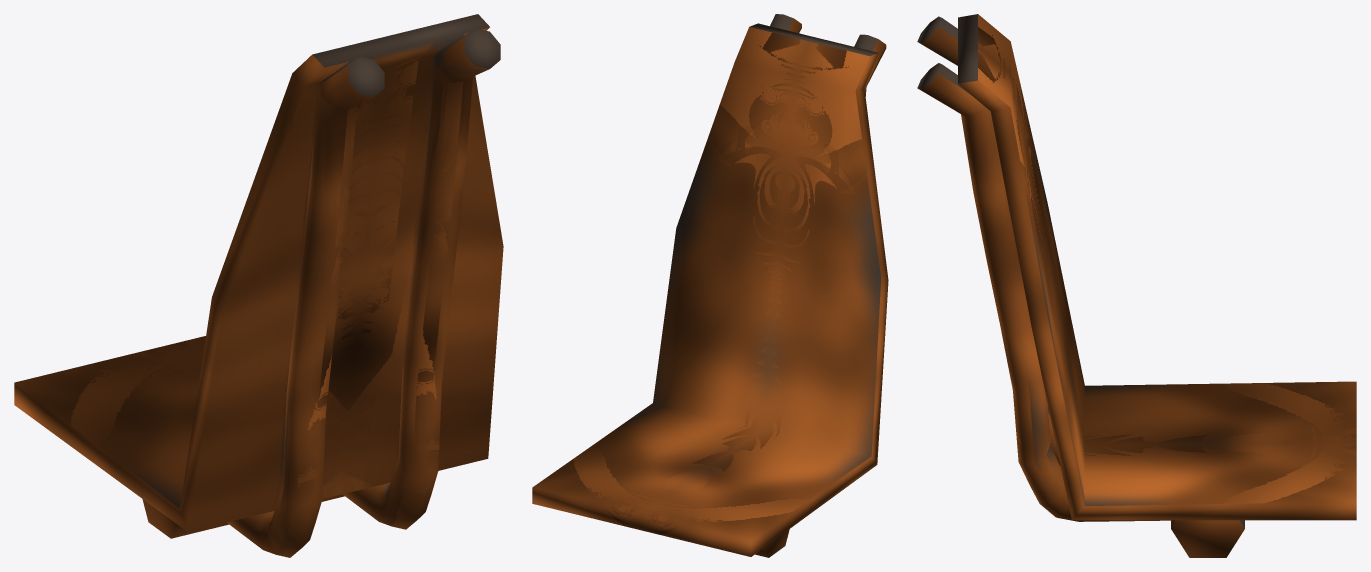
Rendered from carrinho de mao.fbx.
3 views of the same model, side by side, from view 1: azimuth 30°, elevation 25°; view 2: azimuth 150°, elevation 25°; view 3: azimuth 270°, elevation 25° (orthographic). The views are drawn at different scales.
Visible parts, largest first — view 1: Plane; view 2: Plane; view 3: Plane.
Part boxes in pixels (left/top/right/bottom): Plane: left=14, top=14, right=503, bottom=557; Plane: left=532, top=14, right=888, bottom=557; Plane: left=917, top=14, right=1356, bottom=557.
Bounding box in the file's own units: 200 × 371 × 309.
Materials: 1 (1 with a texture image).
